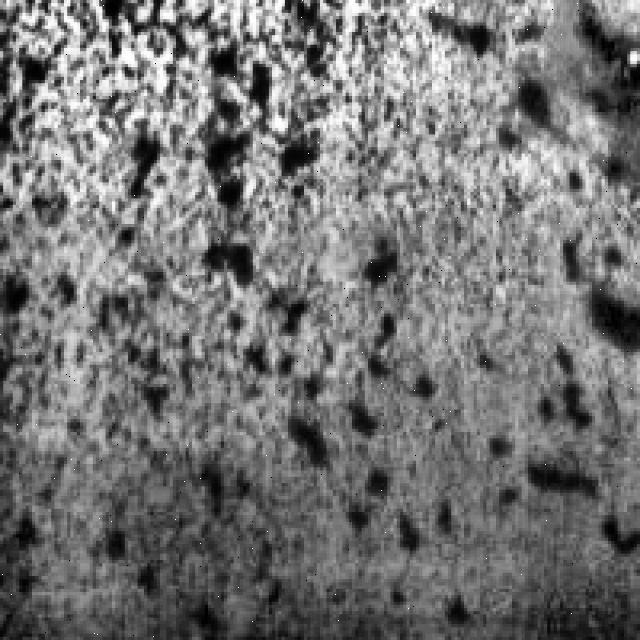Rolled_in_Scale: (16, 44, 403, 596), (490, 217, 640, 563), (502, 0, 640, 234)
